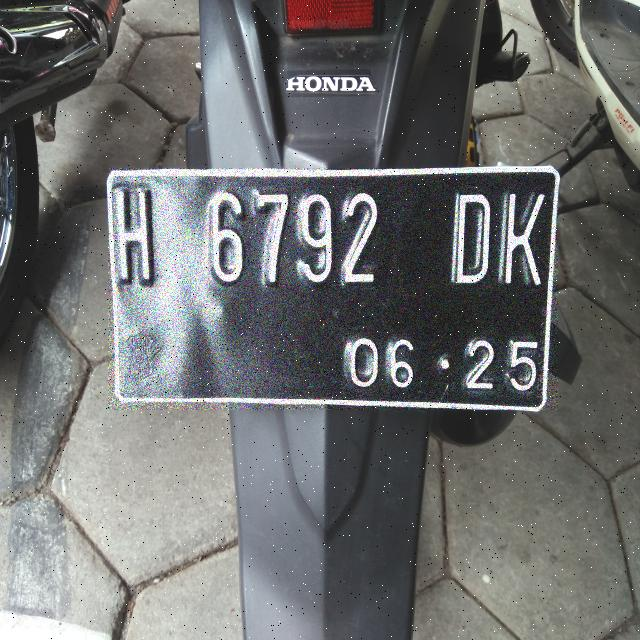plate: (108, 168, 557, 409)
